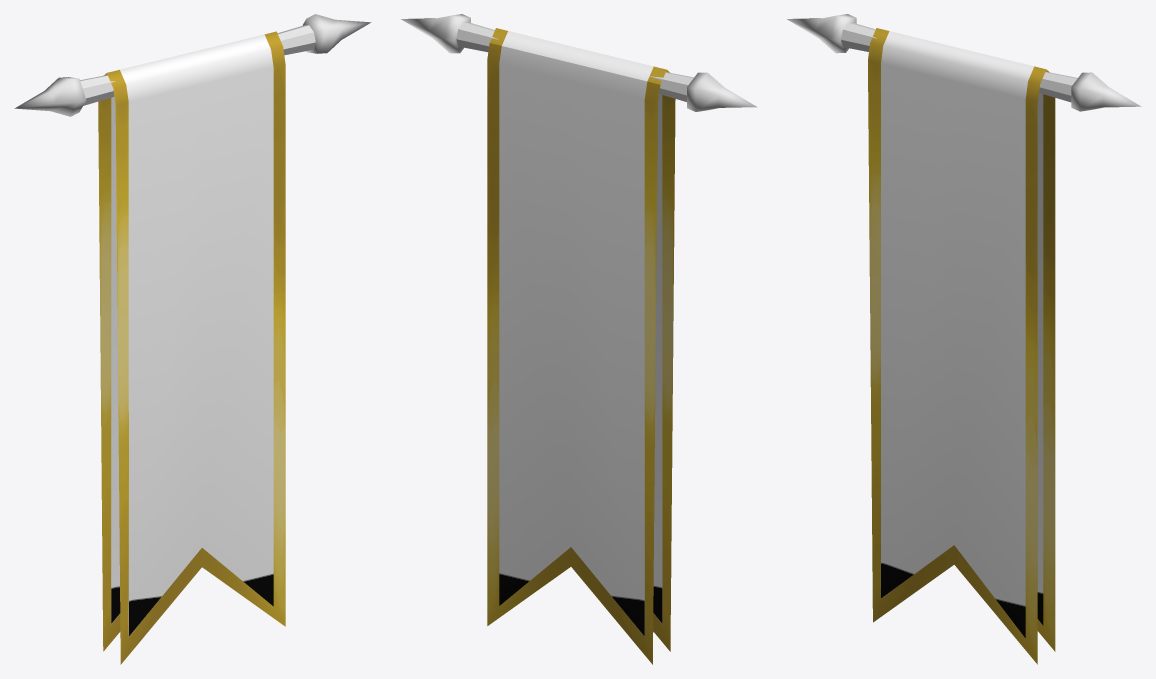
File: mesh_banner_red.fbx
3 views of the same model, side by side, from view 1: azimuth 30°, elevation 25°; view 2: azimuth 150°, elevation 25°; view 3: azimuth 330°, elevation 25° (orthographic).
Visible parts, largest first — view 1: mesh_banner_red; view 2: mesh_banner_red; view 3: mesh_banner_red.
Boxes of the visible parts, x1,y1,x2,y2 form: mesh_banner_red: (14, 14, 371, 664); mesh_banner_red: (401, 14, 757, 664); mesh_banner_red: (787, 14, 1140, 664).
Bounding box in the file's own units: 75.88 × 6.82 × 121.
